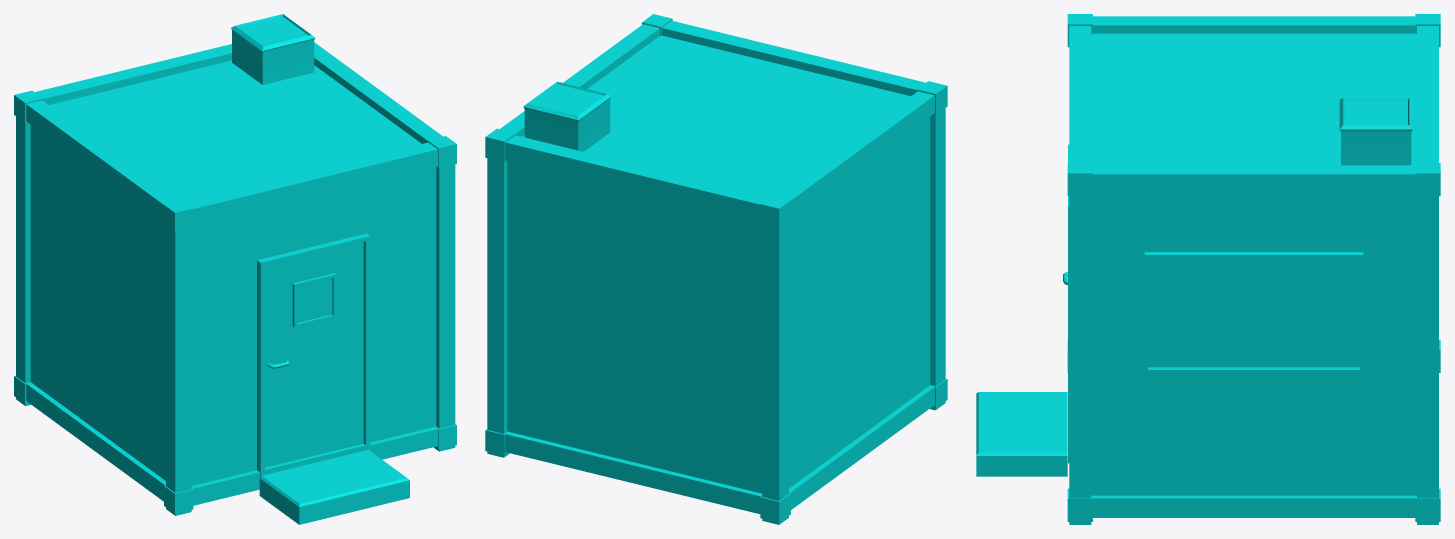
The model's file is Office.fbx.
3 views of the same model, side by side, from view 1: azimuth 30°, elevation 25°; view 2: azimuth 150°, elevation 25°; view 3: azimuth 270°, elevation 25° (orthographic). The views are drawn at different scales.
Parts seen in each view (by area): view 1: Office; view 2: Office; view 3: Office.
Boxes of the visible parts, bbox=[...] form: Office: bbox=[14, 14, 456, 524]; Office: bbox=[485, 14, 947, 524]; Office: bbox=[976, 14, 1440, 524].
Bounding box in the file's own units: 124 × 140 × 153.
